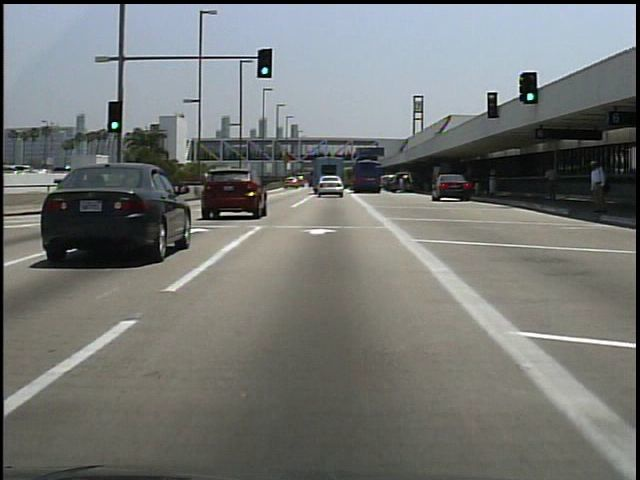person: (583, 157, 607, 221), (539, 158, 560, 206)
